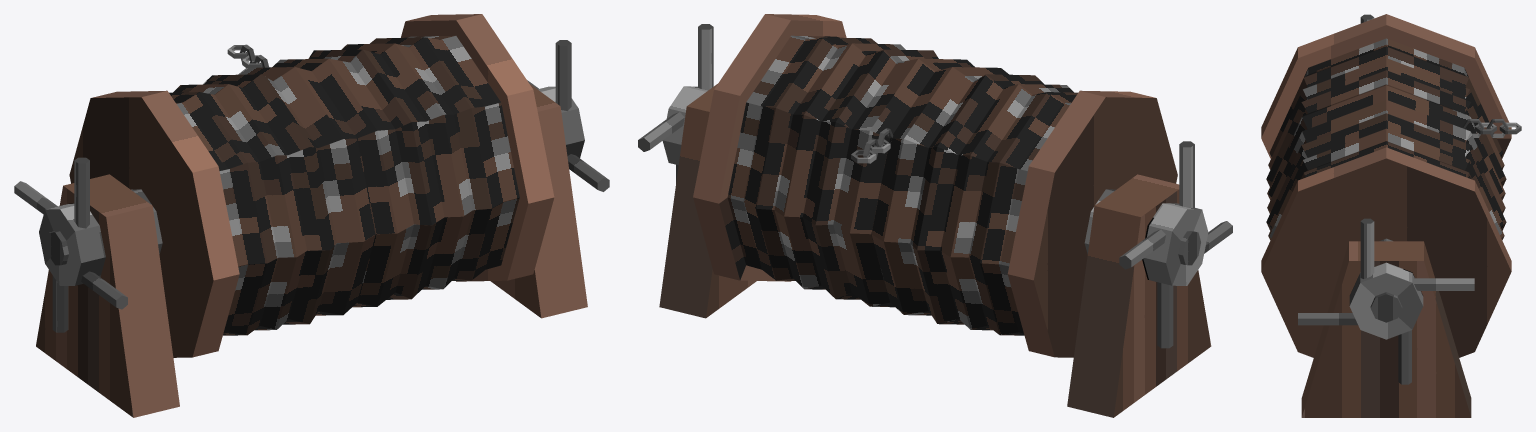
File: winch_949x00.gltf
3 renders of one model, left to right at view 1: azimuth 30°, elevation 25°; view 2: azimuth 150°, elevation 25°; view 3: azimuth 270°, elevation 25°, orthographic. The views are drawn at different scales.
Visible parts, largest first — view 1: winch_949x00; view 2: winch_949x00; view 3: winch_949x00.
Part boxes in pixels (x1,y1,x2,y2): winch_949x00: (14,14,609,417); winch_949x00: (638,14,1232,417); winch_949x00: (1261,14,1521,417).
Size of the model in its own units: 3.09 by 1.56 by 1.56.
1 material, 1 textured.
